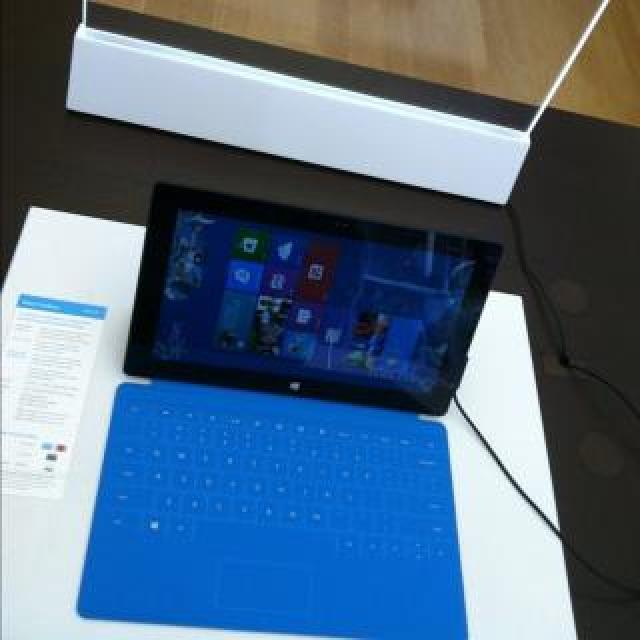laptop_computer: (108, 172, 490, 640)
